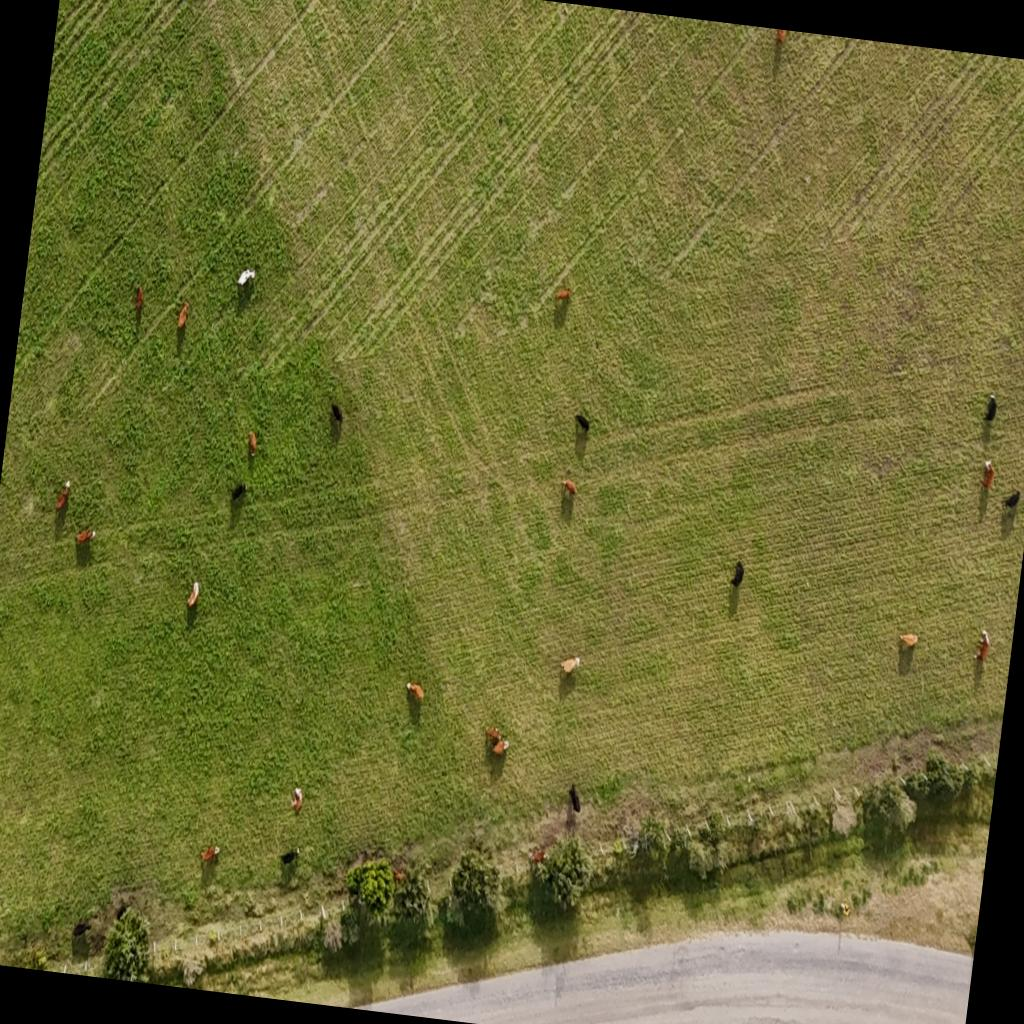cow: (54, 479, 74, 518), (564, 782, 584, 817), (974, 626, 992, 662), (288, 785, 308, 816), (558, 654, 580, 678), (1000, 487, 1021, 512), (71, 919, 91, 945), (897, 630, 920, 651), (981, 458, 997, 487), (405, 681, 425, 703), (200, 842, 220, 864), (236, 267, 256, 289), (185, 580, 200, 608), (984, 390, 998, 420), (490, 738, 510, 758), (572, 411, 591, 432), (560, 477, 578, 499), (732, 558, 746, 586), (74, 528, 94, 546), (530, 846, 548, 866), (484, 724, 500, 746), (230, 480, 246, 502), (246, 428, 258, 456), (329, 402, 345, 423), (176, 300, 188, 328), (554, 284, 572, 302), (132, 284, 144, 310), (280, 848, 297, 866), (392, 868, 406, 882), (775, 29, 786, 43)
